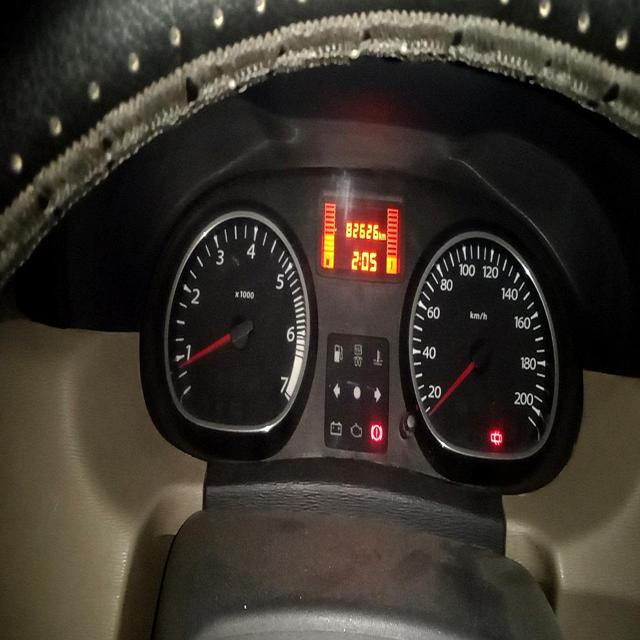odometer: (345, 217, 380, 245)
